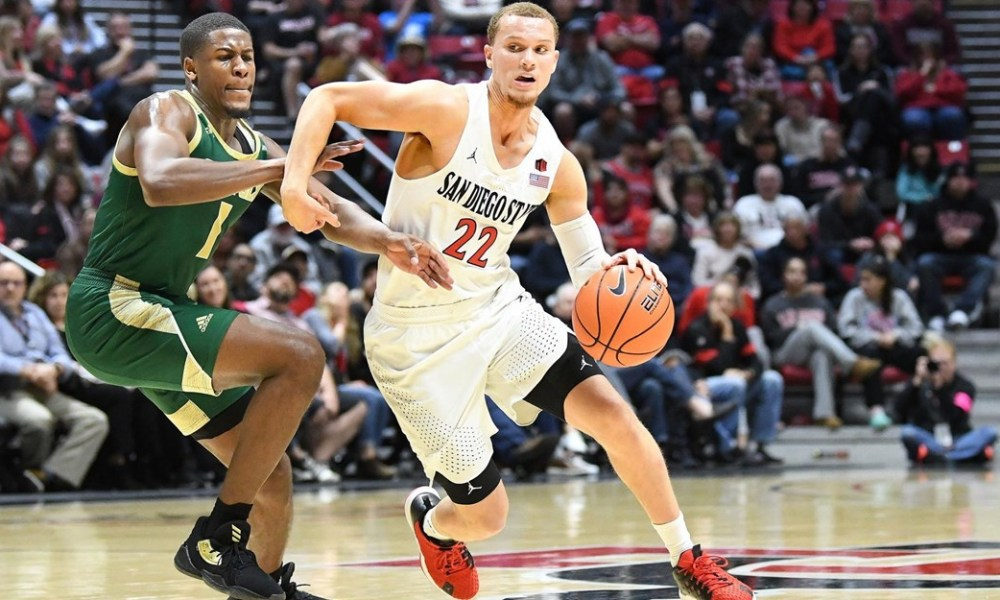ball: (569, 253, 684, 379)
defense: (54, 5, 382, 595)
